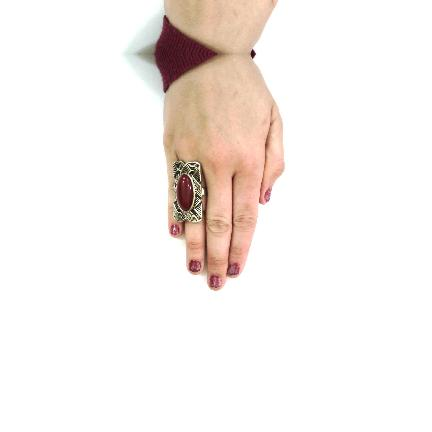Nail: (209, 274, 222, 289), (188, 259, 201, 273), (228, 262, 240, 277), (264, 187, 272, 203), (170, 224, 180, 236)
